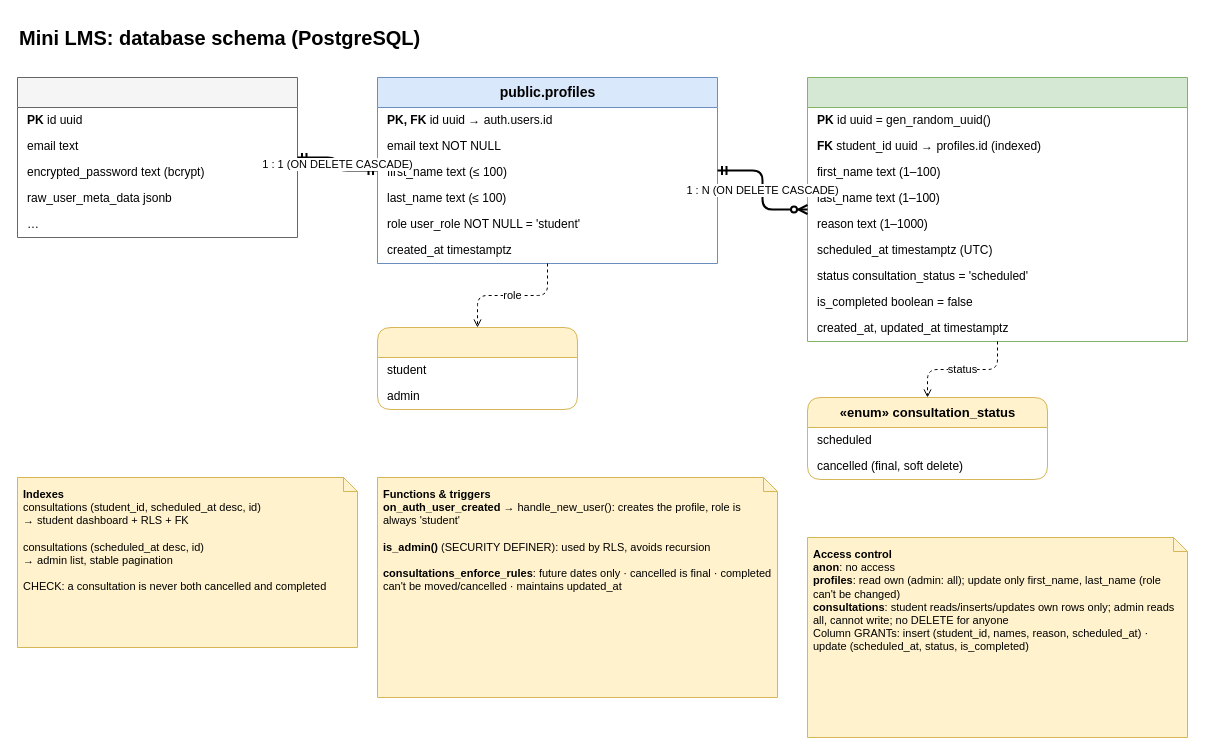
Image size: 1205x755. Some labels were removed from this diagram. Each missing label, with the box of its shape:
auth.users (managed by Supabase Auth): (16, 76, 298, 238)
public.consultations: (806, 76, 1188, 342)
«enum» user_role: (376, 326, 578, 410)
